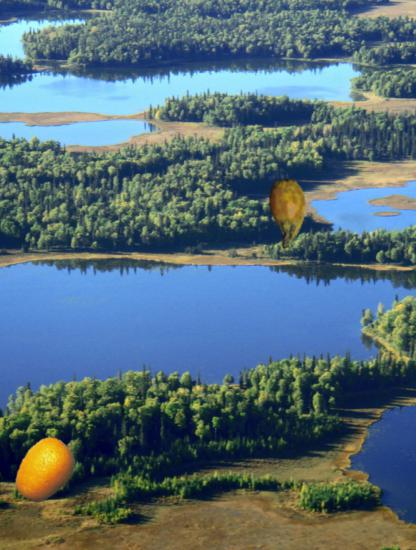Cactus: (252, 177, 325, 250)
Kumquats: (11, 437, 78, 504)
